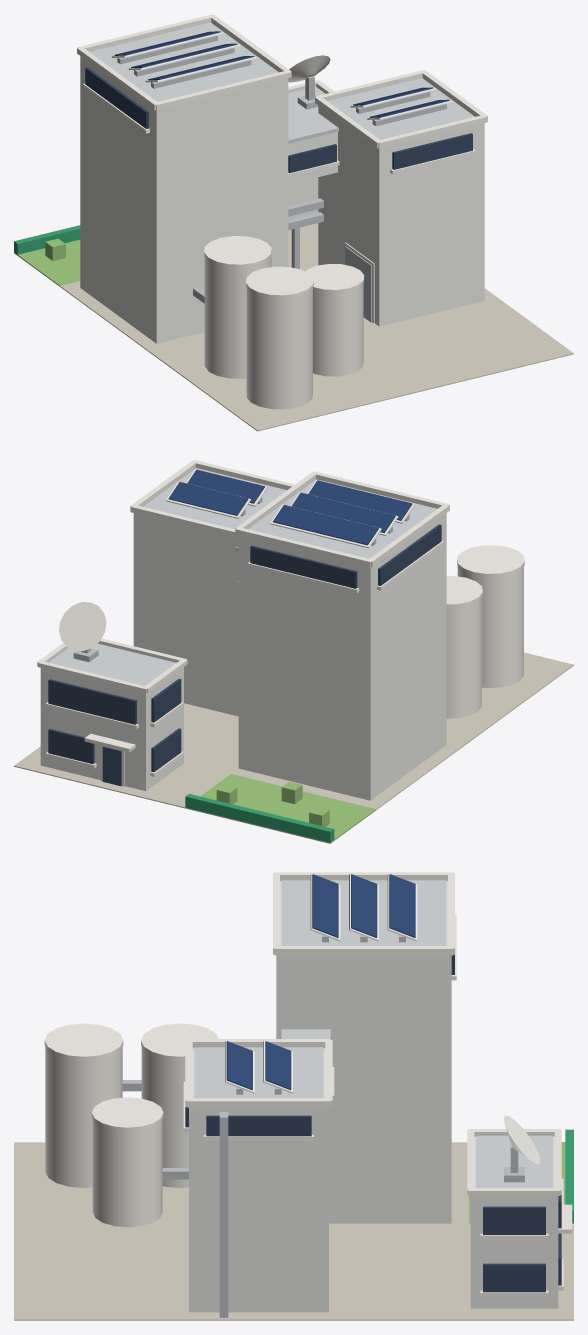
The picture shows the model from 3 angles, top to bottom: view 1: azimuth 30°, elevation 25°; view 2: azimuth 150°, elevation 25°; view 3: azimuth 270°, elevation 25°; orthographic projection. The views are drawn at different scales.
Visible parts, largest first — view 1: process_a, process_b, yard, storage_tank (×3), roof (×3), parapet (×8), tank_top (×3), window_band (×3), panel_rail (×3), lawn, bridge_roof, bridge (+4 smaller); view 2: process_a, process_b, yard, storage_tank (×2), window_band (×6), solar_panel (×5), parapet (×9), office, roof (×3), lawn, tank_top (×2), hedge (+3 smaller); view 3: yard, process_a, process_b, storage_tank (×3), roof (×3), solar_panel (×5), parapet (×5), tank_top (×3), office, window_band (×3), pipe, satellite_dish (+1 smaller).
Boxes of the visible parts, box(x1,y1,x2,y2) form: process_a: box(80, 56, 288, 343); process_b: box(318, 105, 484, 326); yard: box(14, 223, 573, 431); storage_tank (×3): box(204, 257, 363, 409); roof (×3): box(90, 22, 474, 139); parapet (×8): box(77, 14, 487, 148); tank_top (×3): box(204, 236, 364, 299); window_band (×3): box(85, 67, 472, 173); panel_rail (×3): box(117, 35, 251, 88); lawn: box(14, 239, 80, 285); bridge_roof: box(288, 112, 338, 143); bridge: box(288, 132, 337, 184); process_a: box(238, 513, 446, 800); process_b: box(133, 513, 238, 716); yard: box(14, 652, 573, 843); storage_tank (×2): box(446, 567, 523, 718); window_band (×6): box(48, 524, 441, 772); solar_panel (×5): box(168, 469, 412, 545); parapet (×9): box(37, 460, 449, 693); office: box(40, 667, 183, 790); roof (×3): box(49, 468, 437, 685); lawn: box(187, 774, 375, 843); tank_top (×2): box(446, 545, 524, 608); hedge: box(185, 793, 334, 842); yard: box(14, 1142, 573, 1320); process_a: box(276, 881, 451, 1223); process_b: box(189, 1048, 328, 1312); storage_tank (×3): box(45, 1047, 188, 1227); roof (×3): box(194, 880, 552, 1188); solar_panel (×5): box(226, 874, 415, 1090); parapet (×5): box(187, 872, 559, 1195); tank_top (×3): box(44, 1023, 218, 1132); office: box(470, 1136, 558, 1308); window_band (×3): box(206, 1115, 545, 1292); pipe: box(219, 1121, 228, 1317); satellite_dish: box(503, 1115, 540, 1163).
Size of the model in its own units: 24 by 18.1 by 32.
